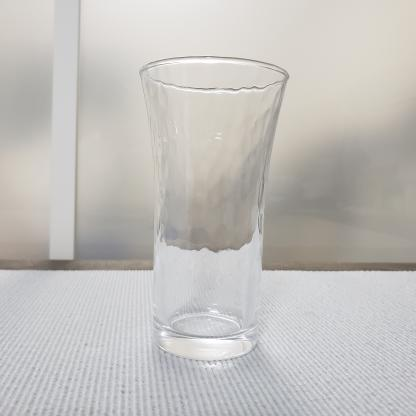glass: (121, 46, 295, 372)
